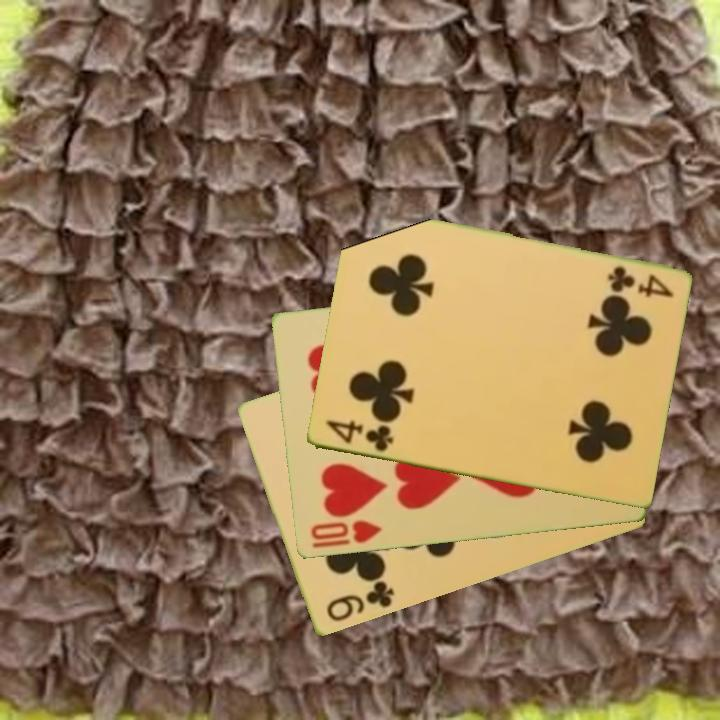10h: (307, 517, 384, 551)
4c: (321, 417, 396, 455), (604, 263, 677, 301)
9c: (322, 577, 397, 625)
